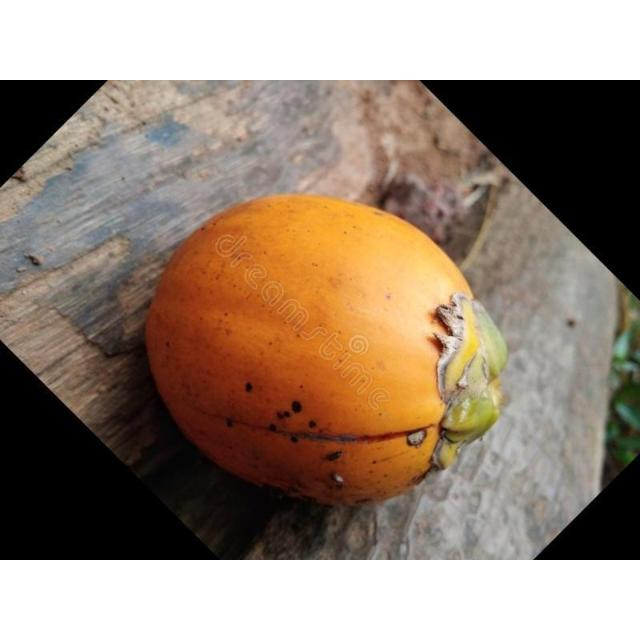good: (143, 194, 509, 509)
